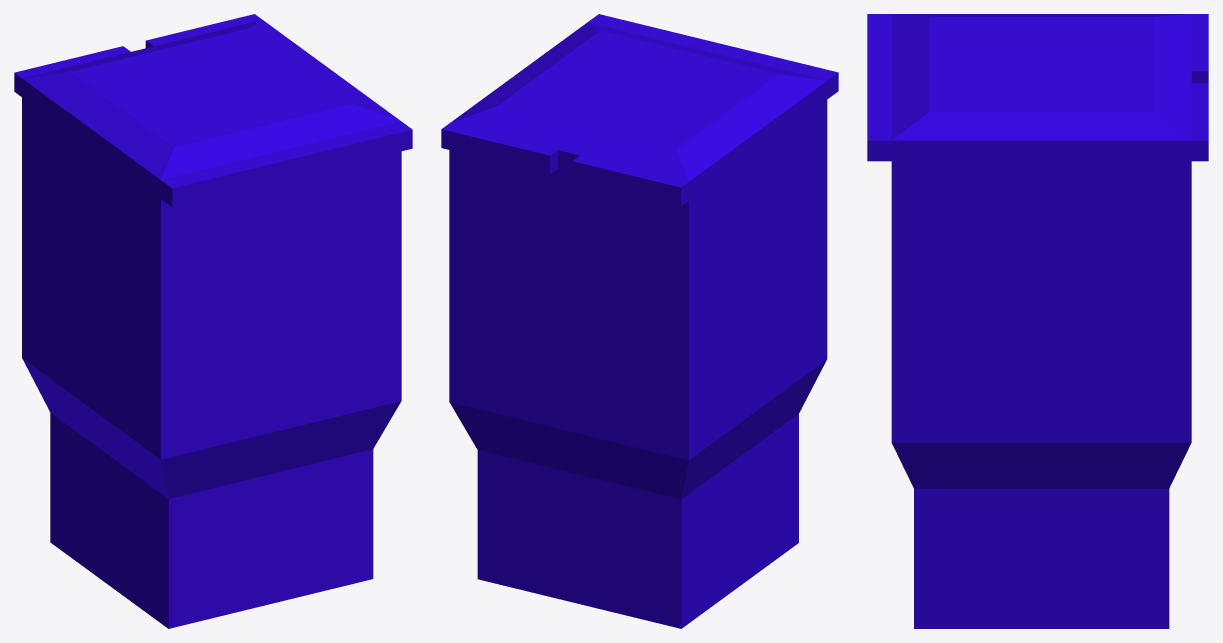
Rendered from Trashcan.glb.
3 renders of one model, left to right at view 1: azimuth 30°, elevation 25°; view 2: azimuth 150°, elevation 25°; view 3: azimuth 270°, elevation 25°, orthographic. The views are drawn at different scales.
Visible parts, largest first — view 1: Trashcan; view 2: Trashcan; view 3: Trashcan.
Boxes of the visible parts, bbox=[...] form: Trashcan: bbox=[14, 14, 412, 628]; Trashcan: bbox=[441, 14, 838, 628]; Trashcan: bbox=[867, 14, 1208, 628].
Size of what is drawn, in the model's own units: 0.7194 by 1.35 by 0.8187.
